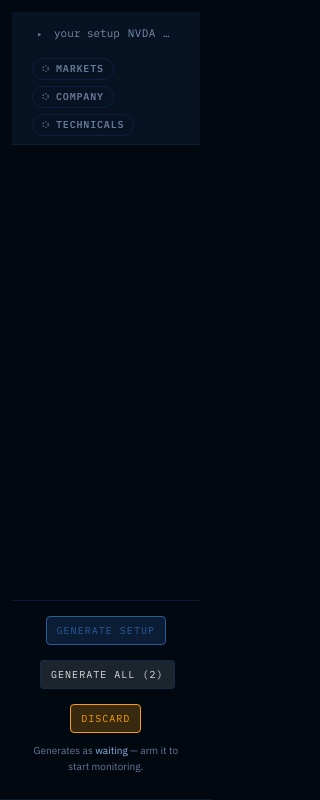
it: MentorSurface — the Generate bar › offers Generate all only when there IS a batch, says how many, and reports a partial batch
What coordinates should you click on to do the following:
click the button "Generate all (2)"
I would click on:
 (107, 674)
Its box is x1=40 y1=660 x2=174 y2=689.
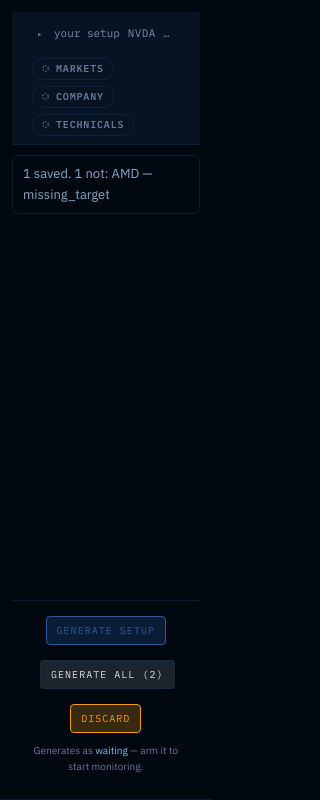
Check: the text "1 saved. 1 not: AMD — missing_target" is shown, box x1=12 y1=155 x2=200 y2=214
